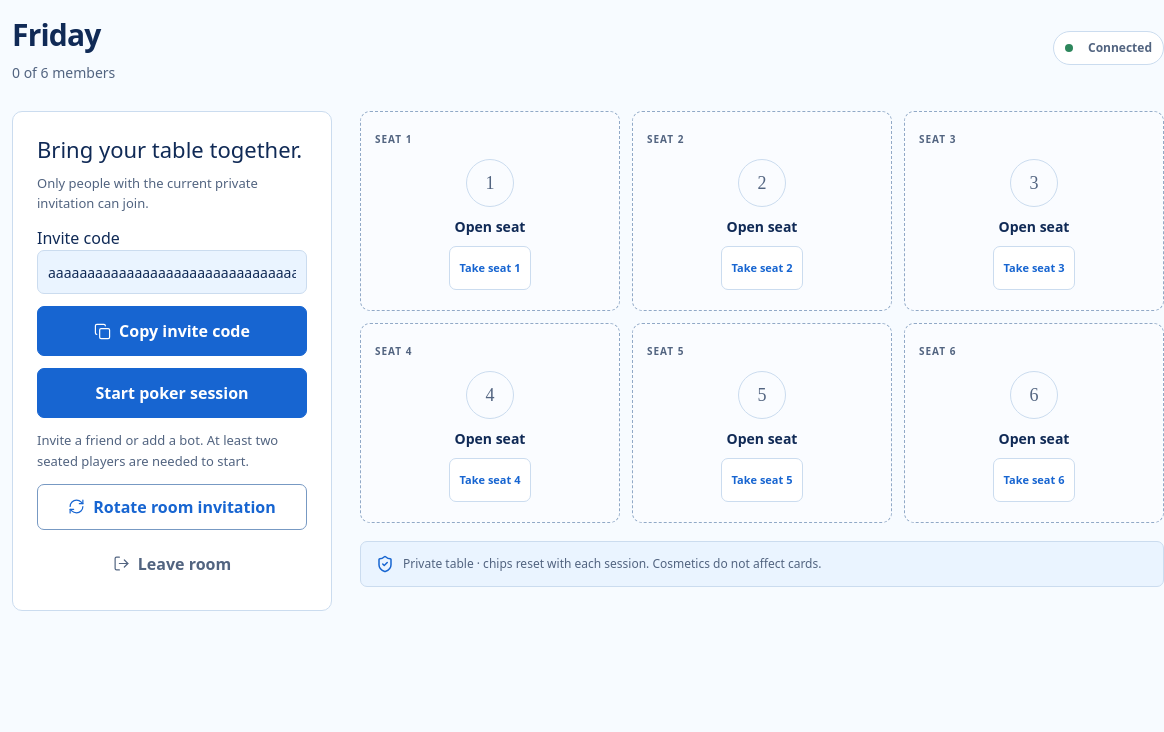
Scenario: RoomLobby › shows and copies only the invite code with explicit success and failure feedback
Click the button "Copy invite code" at (172,331), box [37,306,307,356]
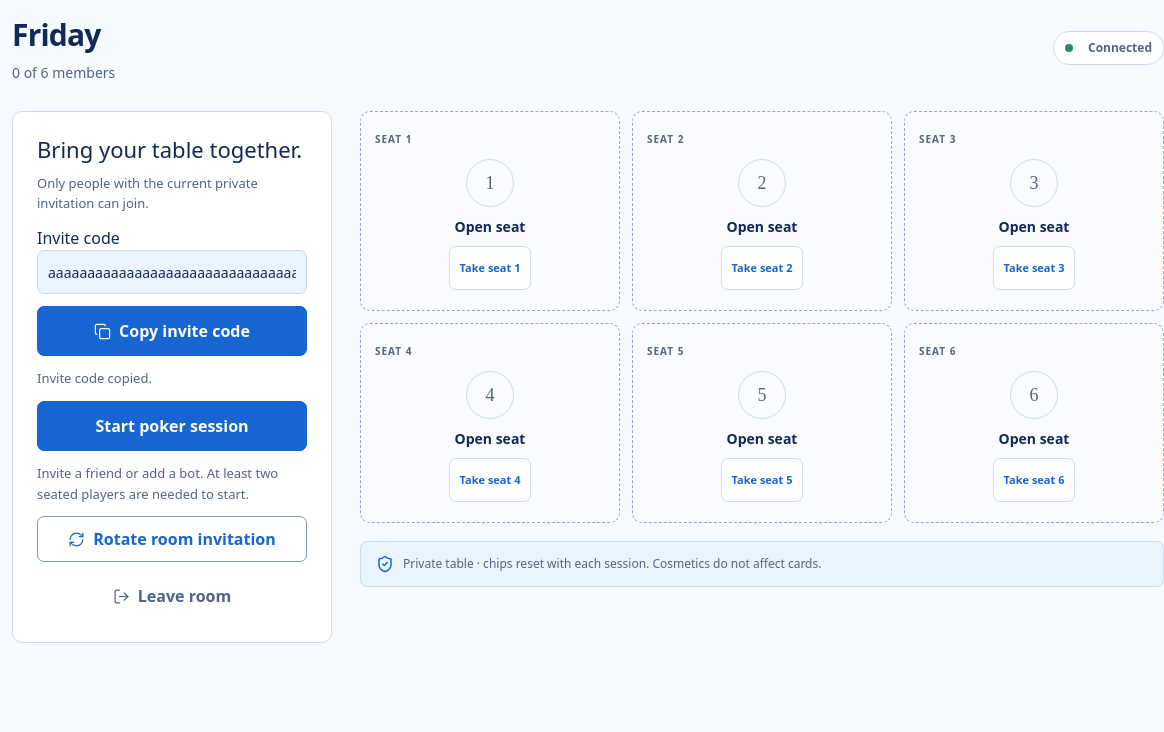
Now the text "Invite code copied." is shown, box [37,369,152,387]
Click the button "Copy invite code" at (172,331), box [37,306,307,356]
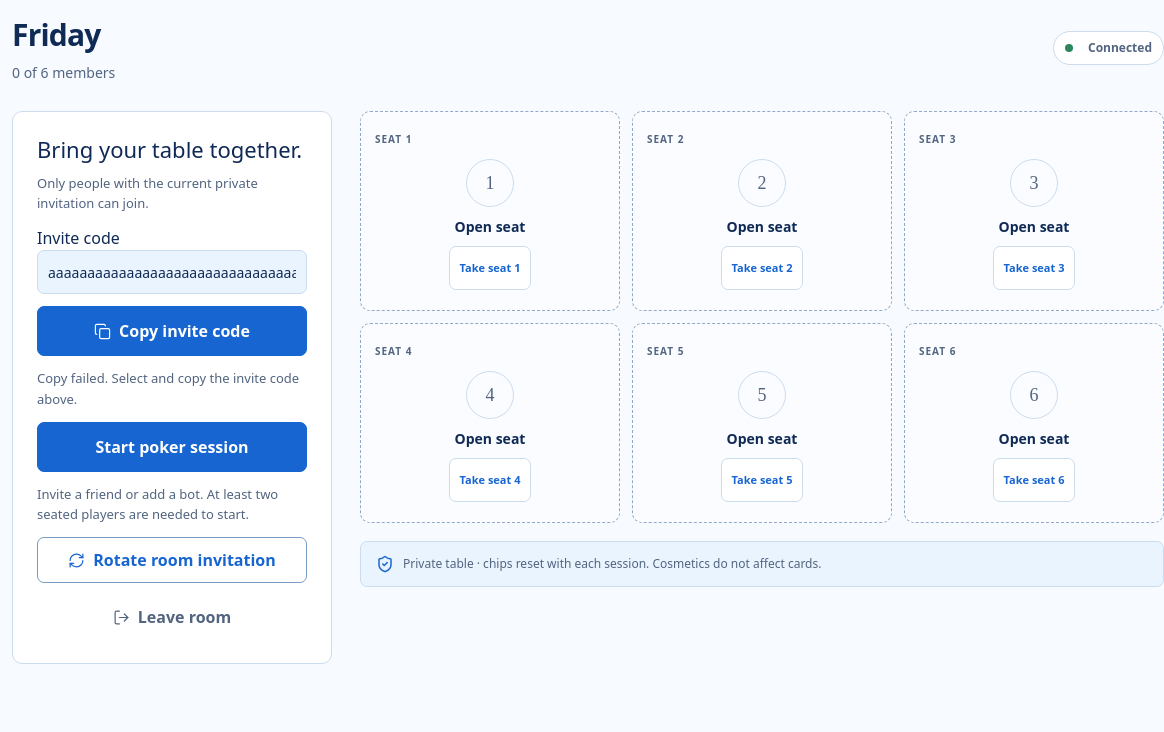
Now the text "Copy failed. Select and copy the invite code above." is shown, box [37,368,307,410]
